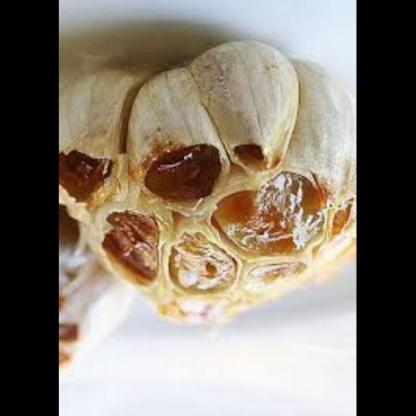garlic: (59, 46, 357, 352)
